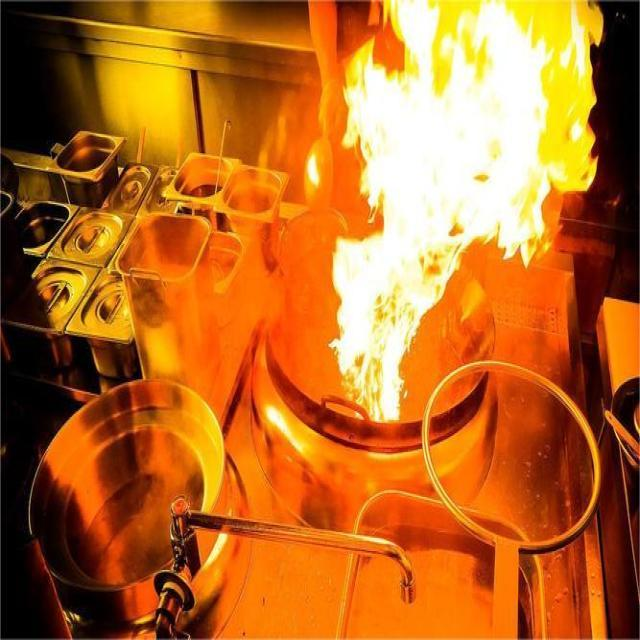Fire: (329, 0, 602, 420)
